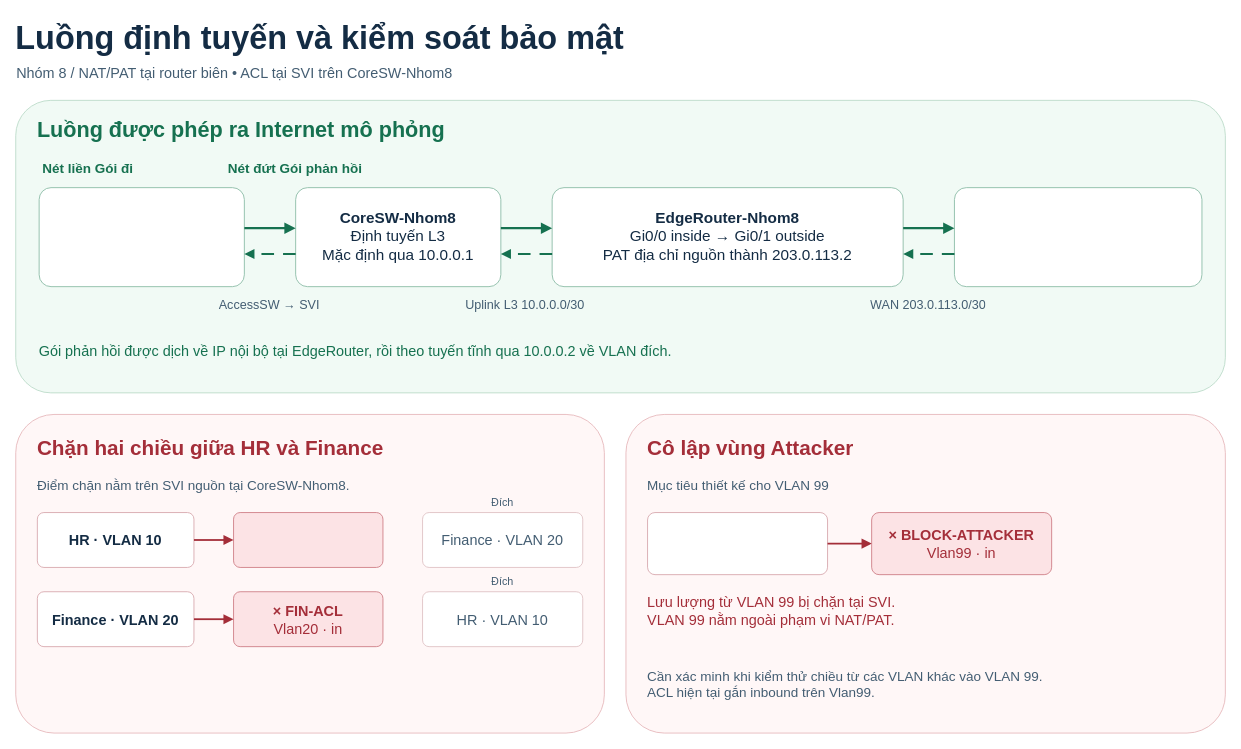
This 1241x749 diagram has some shape labels left out. The centre of each missing label's shape, as x and y in pixels:
"ATTACKER-PC VLAN 99 · 192.168.99.0/24" goes at (x=737, y=543).
"ISP-Internet Next hop 203.0.113.1 Loopback0 8.8.8.8" goes at (x=1078, y=237).
"Máy nội bộ VLAN 10, 20, 30, 40, 50 Gateway SVI .1" goes at (x=141, y=237).
"× HR-ACL Vlan10 · in" goes at (x=308, y=539).
